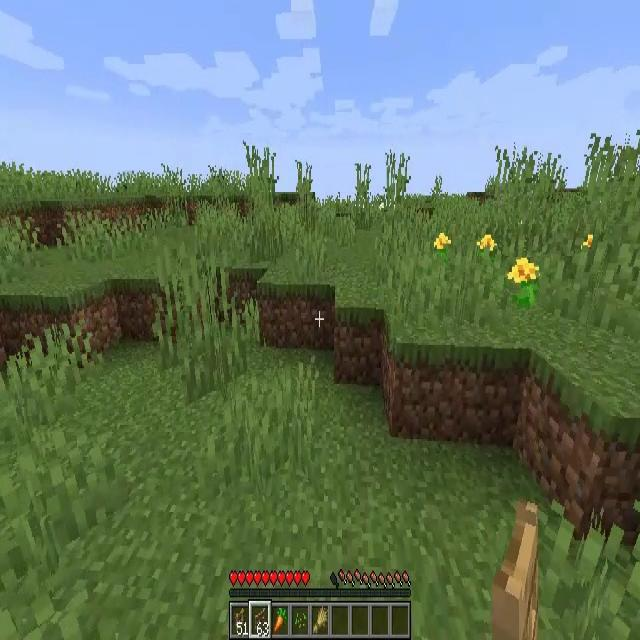flower: (508, 257, 540, 308), (476, 232, 498, 256), (434, 233, 452, 252)
